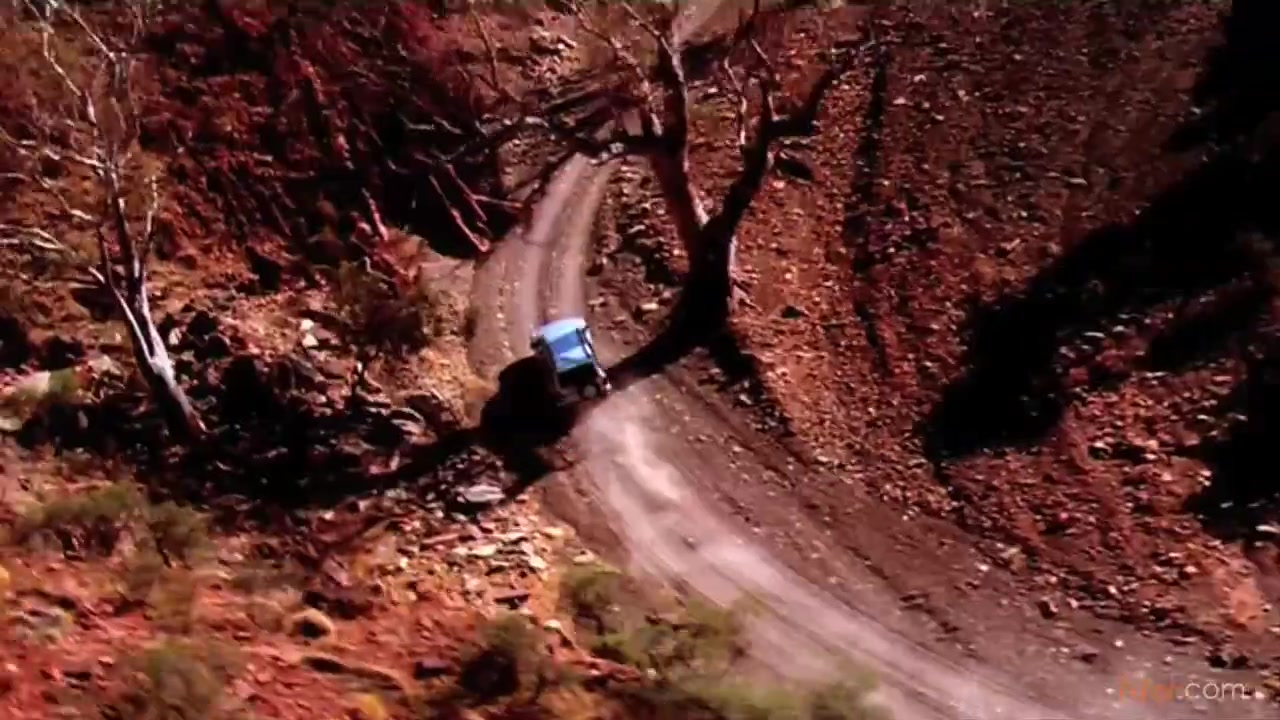car: (524, 314, 612, 413)
